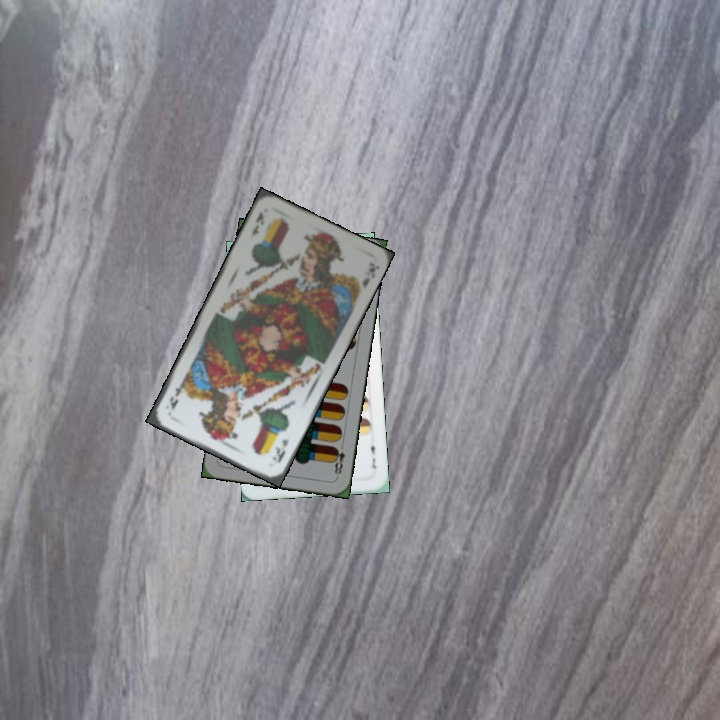E7: (366, 436, 379, 471)
E8: (329, 440, 348, 480)
EK: (268, 435, 290, 465), (248, 208, 267, 238)
